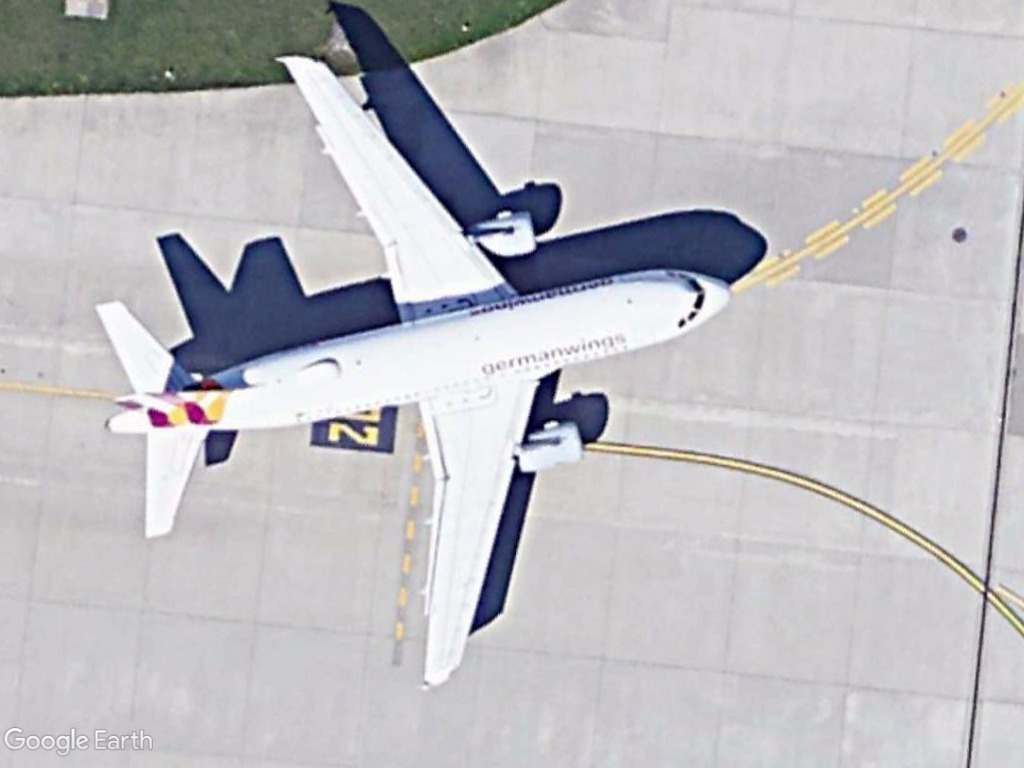airliner: (87, 47, 737, 686)
